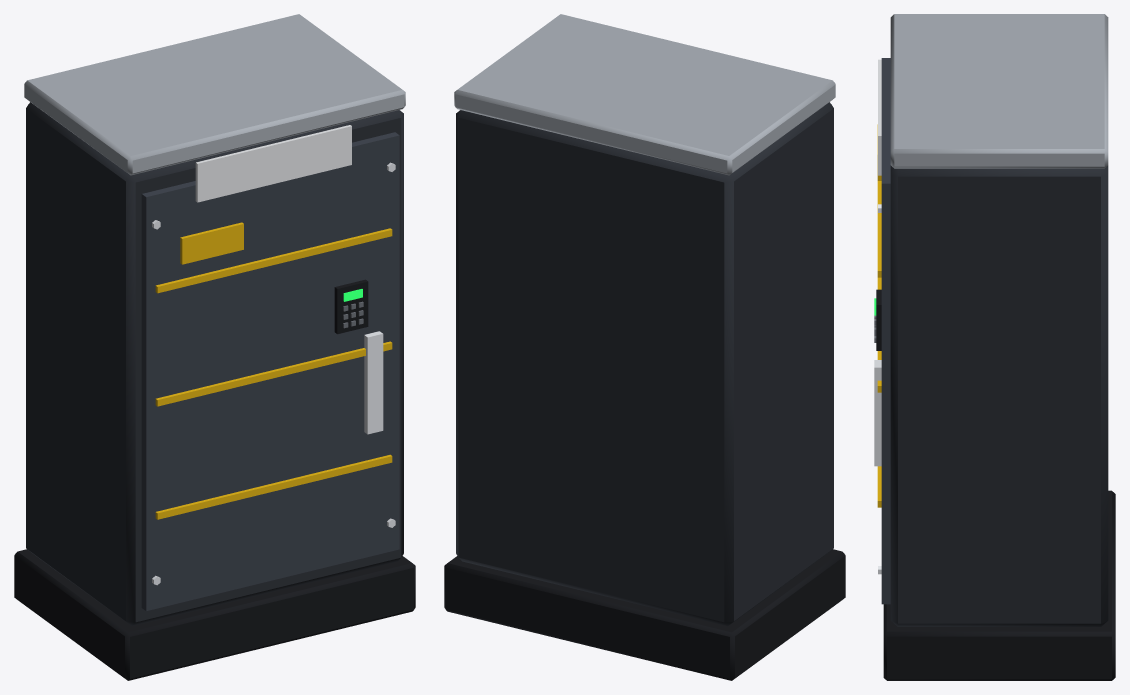
File: locker_gear_locker_keypad.glb
The picture shows the model from 3 angles, left to right: view 1: azimuth 30°, elevation 25°; view 2: azimuth 150°, elevation 25°; view 3: azimuth 270°, elevation 25°; orthographic projection.
Parts seen in each view (by area): view 1: locker_gear_locker_keypad; view 2: locker_gear_locker_keypad; view 3: locker_gear_locker_keypad.
Boxes of the visible parts, left/top/right/bottom form: locker_gear_locker_keypad: left=14, top=14, right=415, bottom=680; locker_gear_locker_keypad: left=444, top=14, right=845, bottom=680; locker_gear_locker_keypad: left=874, top=14, right=1115, bottom=680.
Bounding box in the file's own units: 0.94 × 1.61 × 0.665.
